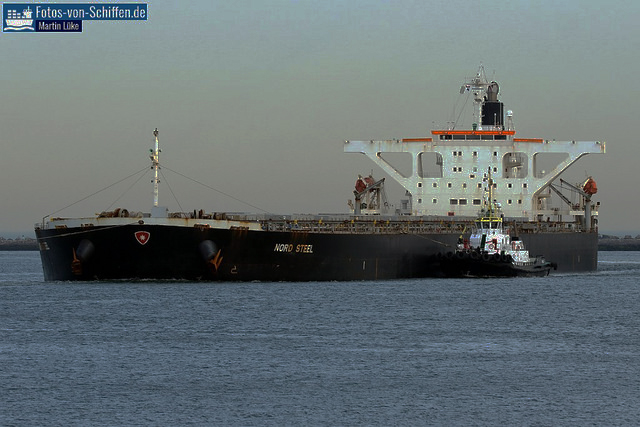bulk carrier: (33, 65, 612, 281)
tug_boat: (445, 167, 554, 278)
